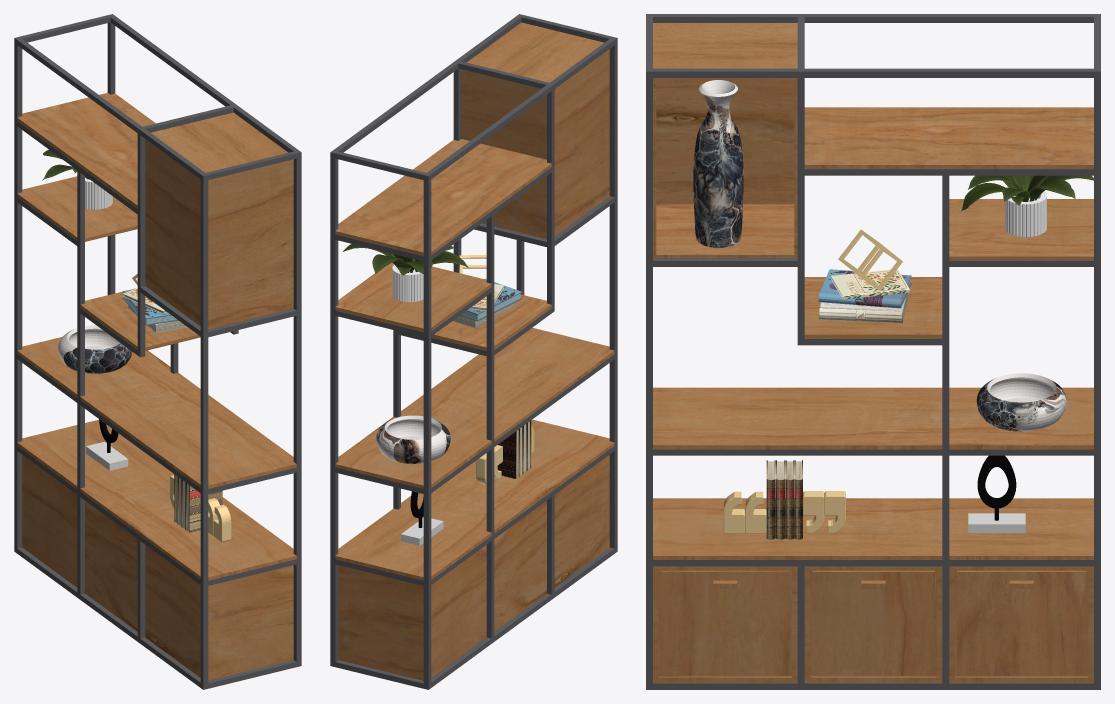
The model's file is open_back_bookcase.glb.
3 views of the same model, side by side, from view 1: azimuth 30°, elevation 25°; view 2: azimuth 150°, elevation 25°; view 3: azimuth 270°, elevation 25° (orthographic). The views are drawn at different scales.
Visible parts, largest first — view 1: Bookshelf_frame, Shelf_1, Storage_box, Shelf_5, Shelf_6, Shelf_2, Shelf_3, Shelf_4, Vase_2, Book_pack_1, Decoration_1, Quotation_mark_2 (+2 smaller); view 2: Bookshelf_frame, Storage_box, Shelf_1, Shelf_5, Shelf_6, Shelf_2, Shelf_3, Vase_2, Shelf_4, Book_pack_1, Plane.013, Flower_pot (+3 smaller); view 3: Storage_box, Bookshelf_frame, Shelf_1, Shelf_5, Shelf_6, Shelf_2, Shelf_3, Vase_1, Shelf_4, Vase_2, Book_pack_1, Plane.013 (+8 smaller).
Part boxes in pixels (box(x1,y1,x2,y2)): Bookshelf_frame: box(14, 14, 301, 689); Shelf_1: box(145, 112, 293, 329); Storage_box: box(22, 455, 293, 680); Shelf_5: box(17, 337, 296, 488); Shelf_6: box(17, 419, 296, 580); Shelf_2: box(17, 93, 155, 208); Shelf_3: box(17, 176, 137, 241); Shelf_4: box(80, 288, 200, 350); Vase_2: box(58, 325, 132, 373); Book_pack_1: box(174, 474, 222, 532); Decoration_1: box(86, 419, 128, 470); Quotation_mark_2: box(208, 498, 231, 542); Bookshelf_frame: box(330, 14, 617, 689); Storage_box: box(338, 455, 609, 680); Shelf_1: box(461, 22, 609, 239); Shelf_5: box(335, 327, 614, 488); Shelf_6: box(335, 419, 614, 580); Shelf_2: box(335, 139, 551, 255); Shelf_3: box(335, 262, 491, 331); Vase_2: box(376, 415, 450, 463); Shelf_4: box(431, 294, 551, 350); Book_pack_1: box(497, 420, 531, 478); Plane.013: box(343, 243, 469, 275); Flower_pot: box(392, 264, 423, 302); Storage_box: box(653, 566, 1093, 682); Bookshelf_frame: box(646, 14, 1100, 689); Shelf_1: box(653, 23, 797, 257); Shelf_5: box(653, 387, 1093, 449); Shelf_6: box(653, 498, 1093, 559); Shelf_2: box(804, 107, 1093, 168); Shelf_3: box(949, 199, 1093, 260); Vase_1: box(693, 80, 743, 247); Shelf_4: box(804, 277, 942, 338); Vase_2: box(976, 373, 1066, 431); Book_pack_1: box(766, 460, 802, 539); Plane.013: box(961, 175, 1093, 211).
Size of the model in its own units: 0.6612 by 3 by 2.
Materials: 18 (15 with a texture image).
